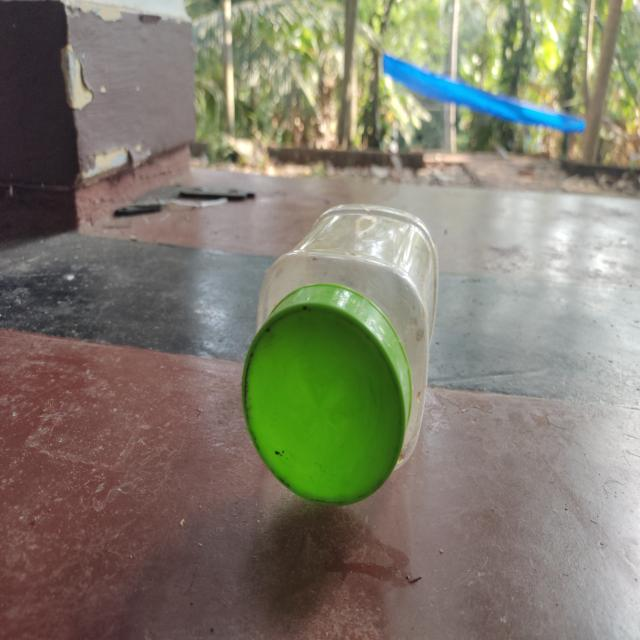plastic: (244, 201, 438, 506)
